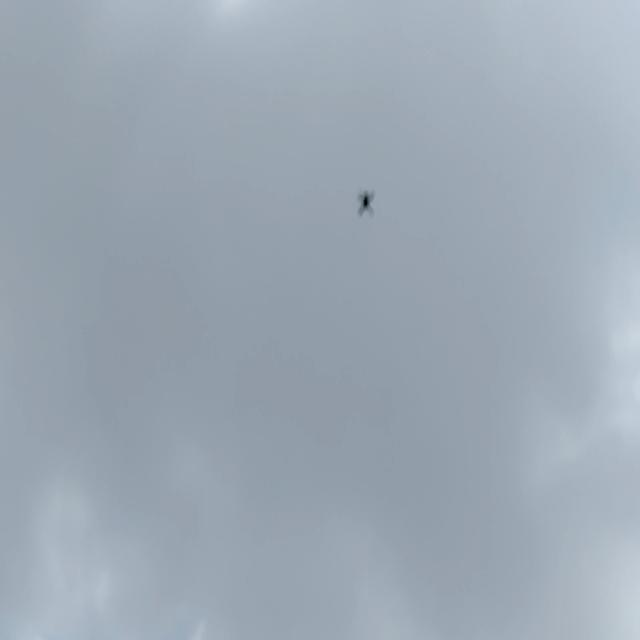drone: (354, 186, 376, 215)
